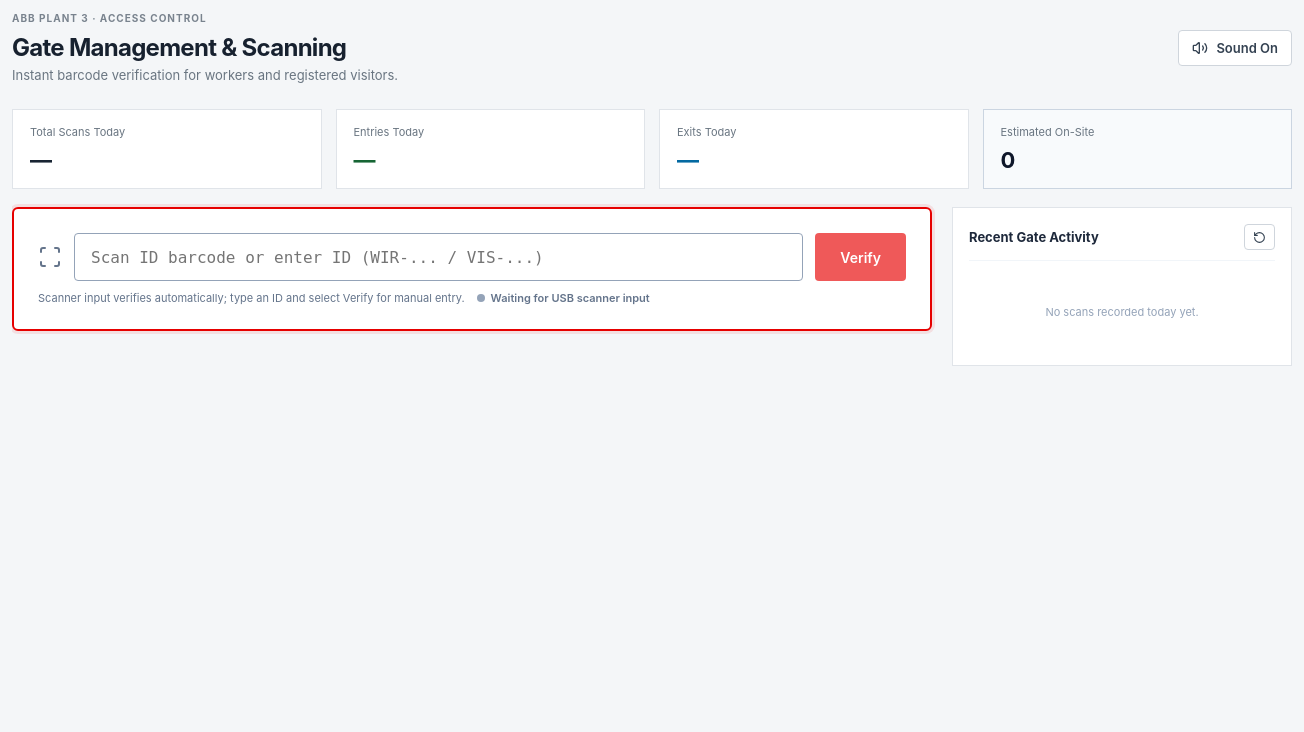
Test: barcode scanner input › submits gate scans when a keyboard scanner sends Enter, even at a slow typing rate
This screenshot has width=1304, height=732.
Type "wir-test" into the field with placeholder "Scan ID barcode or enter ID (WIR-... / VIS-...)" at (439, 257), box [74,233,803,281]
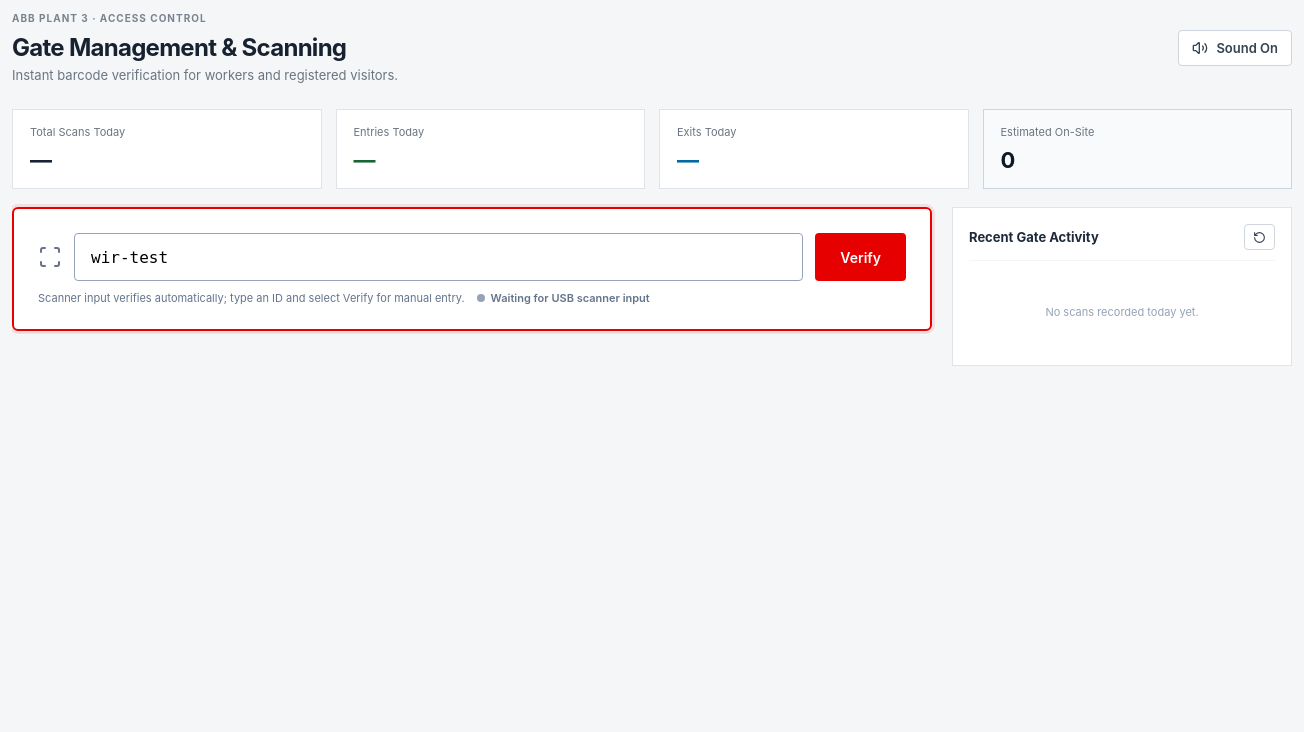
Press Enter in the field with placeholder "Scan ID barcode or enter ID (WIR-... / VIS-...)", box [74,233,803,281]
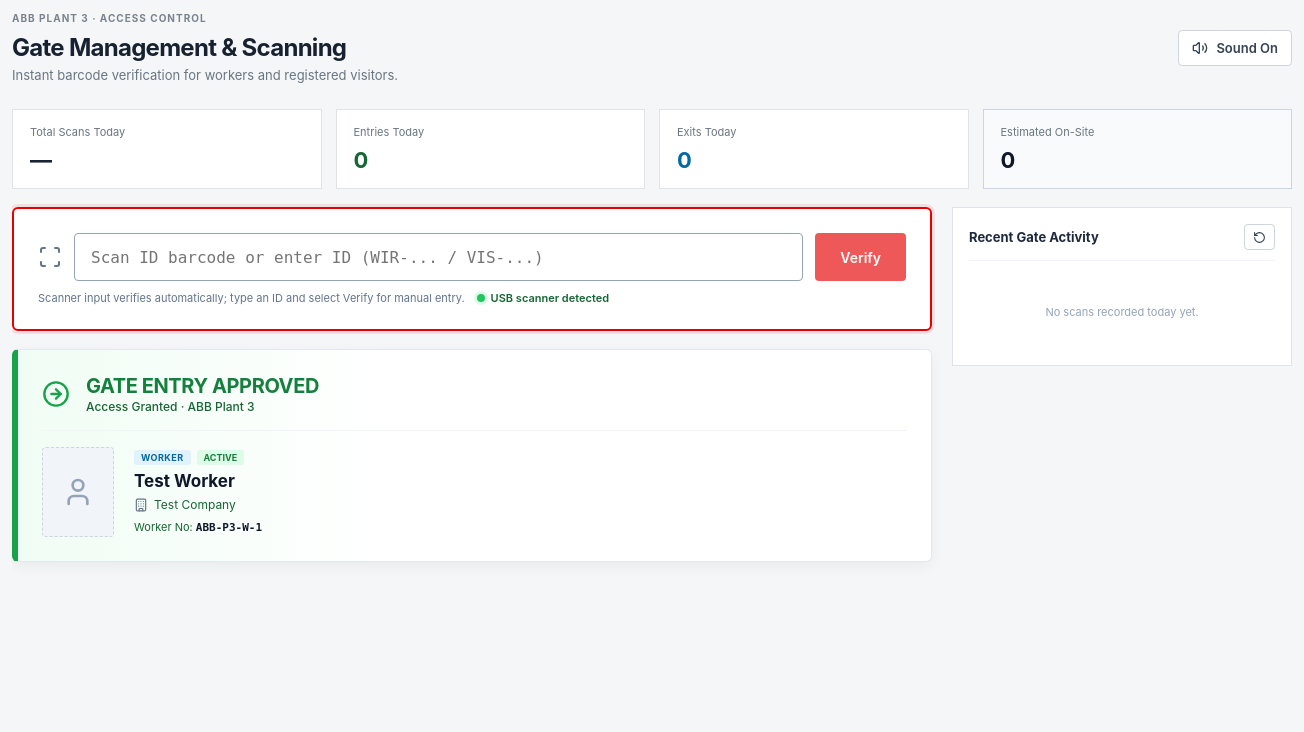
Expected: the heading "GATE ENTRY APPROVED" is shown, [86,374,319,398]
